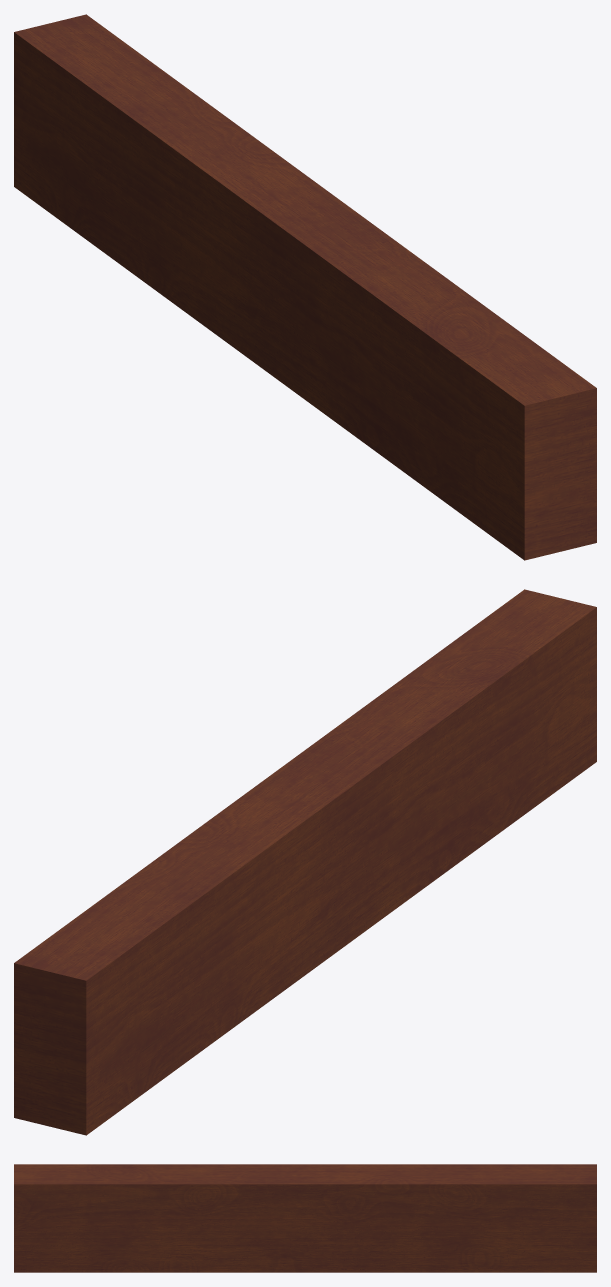
Rendered from SM_WindoSill01Ab.fbx.
3 views of the same model, one above another, from view 1: azimuth 30°, elevation 25°; view 2: azimuth 150°, elevation 25°; view 3: azimuth 270°, elevation 25° (orthographic). The views are drawn at different scales.
Visible parts, largest first — view 1: SM_WindoSill01Ab; view 2: SM_WindoSill01Ab; view 3: SM_WindoSill01Ab.
Boxes of the visible parts, x1,y1,x2,y2 form: SM_WindoSill01Ab: (14,14,596,560); SM_WindoSill01Ab: (14,589,596,1135); SM_WindoSill01Ab: (14,1164,596,1272).
Size of the model in its own units: 20.05 by 245 by 40.96.
1 material, 1 textured.
